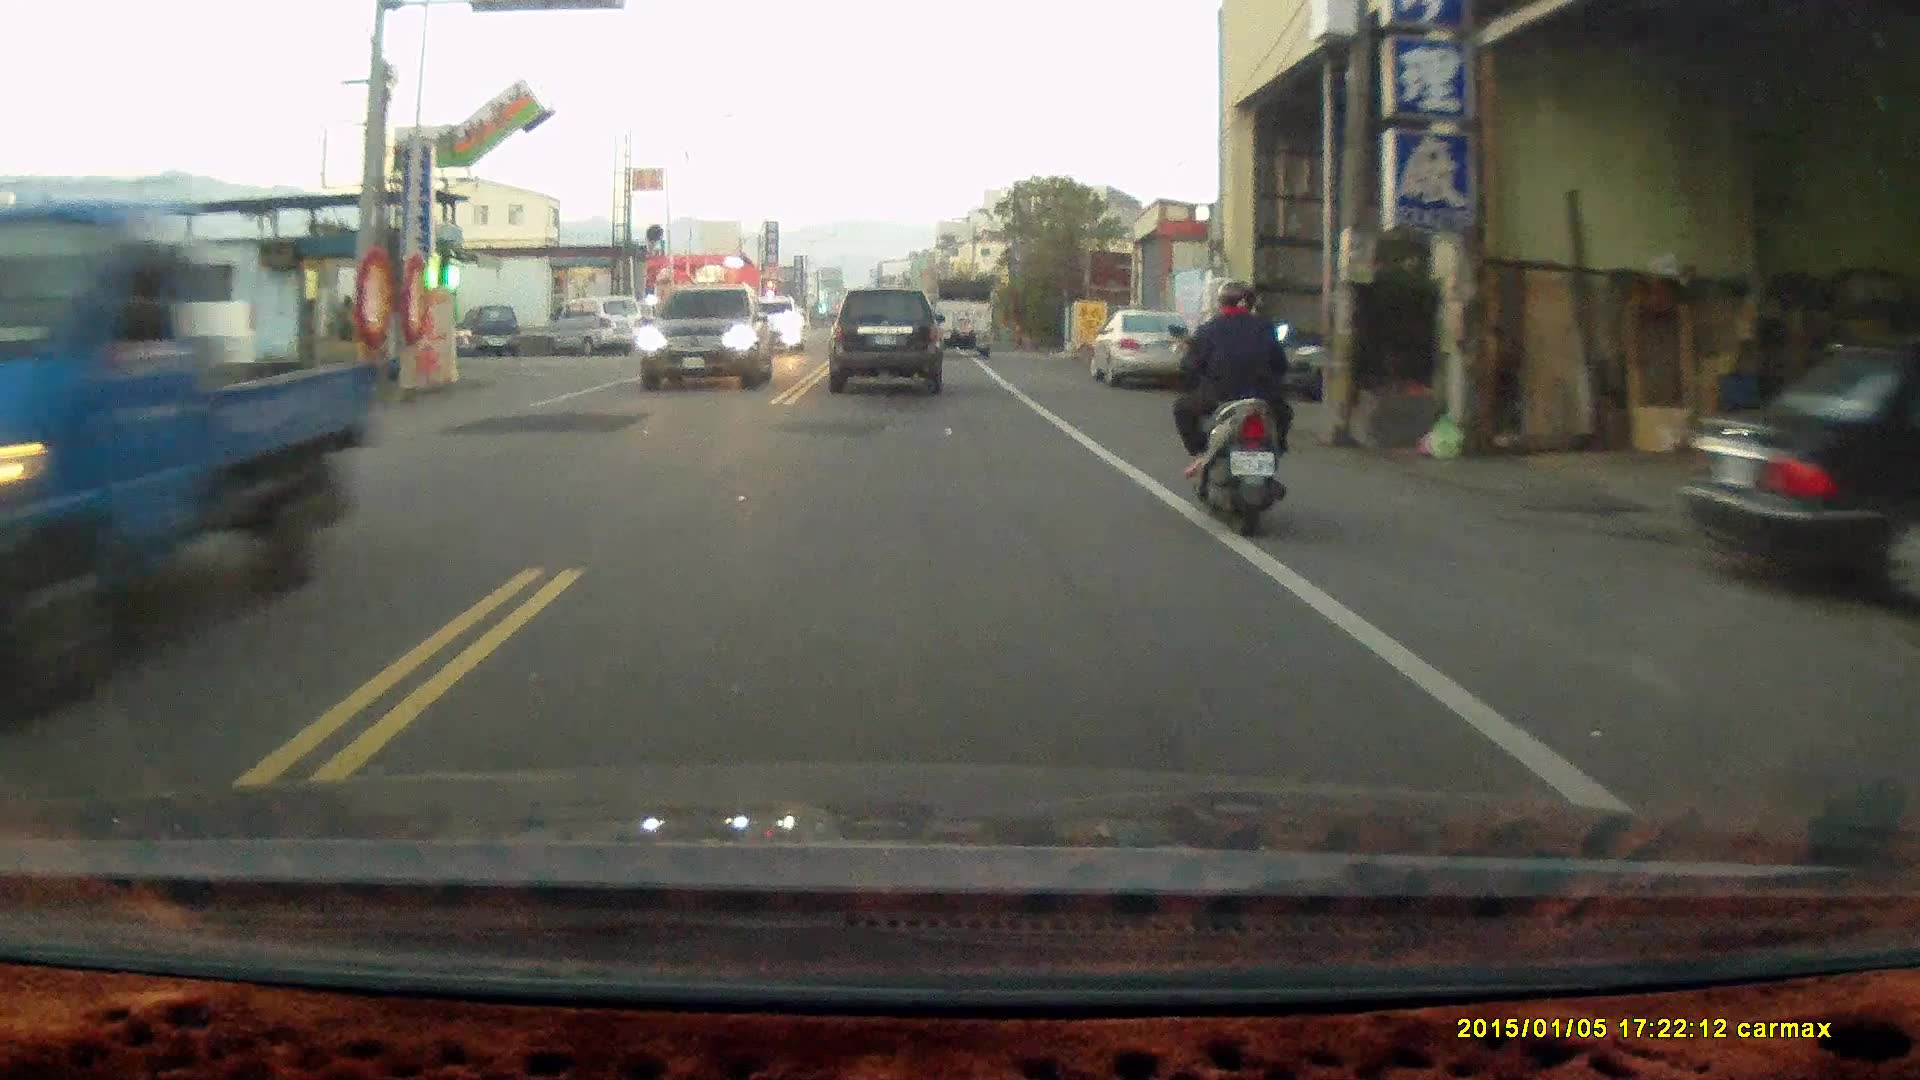rider: (1165, 273, 1295, 538)
vehicle: (1, 194, 395, 710), (1684, 335, 1918, 614), (638, 284, 779, 395), (828, 285, 945, 393), (1088, 308, 1191, 384), (927, 268, 997, 349), (551, 295, 644, 356)
